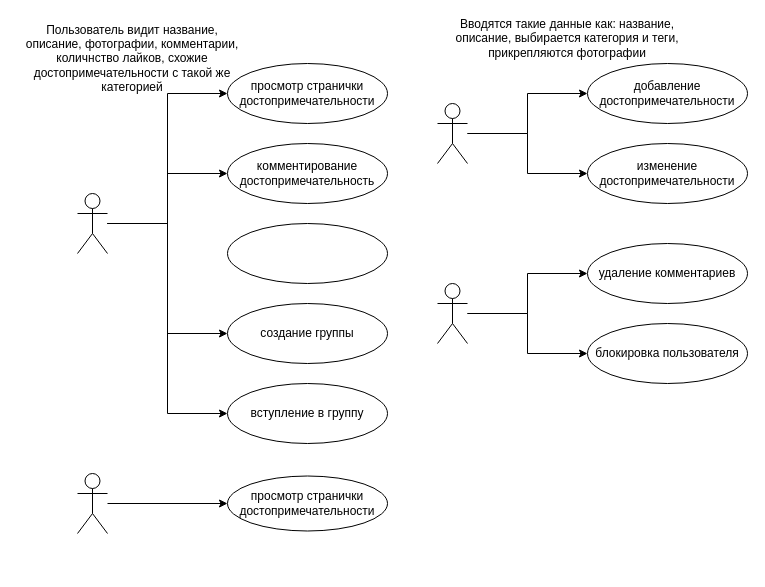
Image size: 765x587. Some labels were removed from this diagram. Here are the shapes that lost their labels. From the top down, the centre of each, then its label:
point 452,133: редактор
point 92,223: пользователь
point 307,253: лайкнуть достопримечательность
point 452,313: модератор
point 92,503: не авторизованный пользователь
